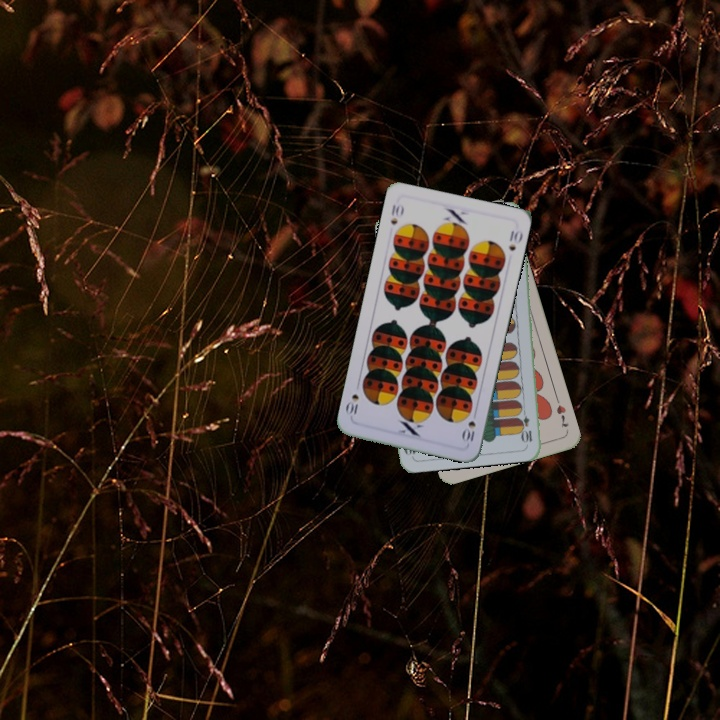E10: (518, 405, 535, 445)
H7: (552, 394, 571, 430)
S10: (459, 416, 478, 444), (386, 201, 406, 227)
